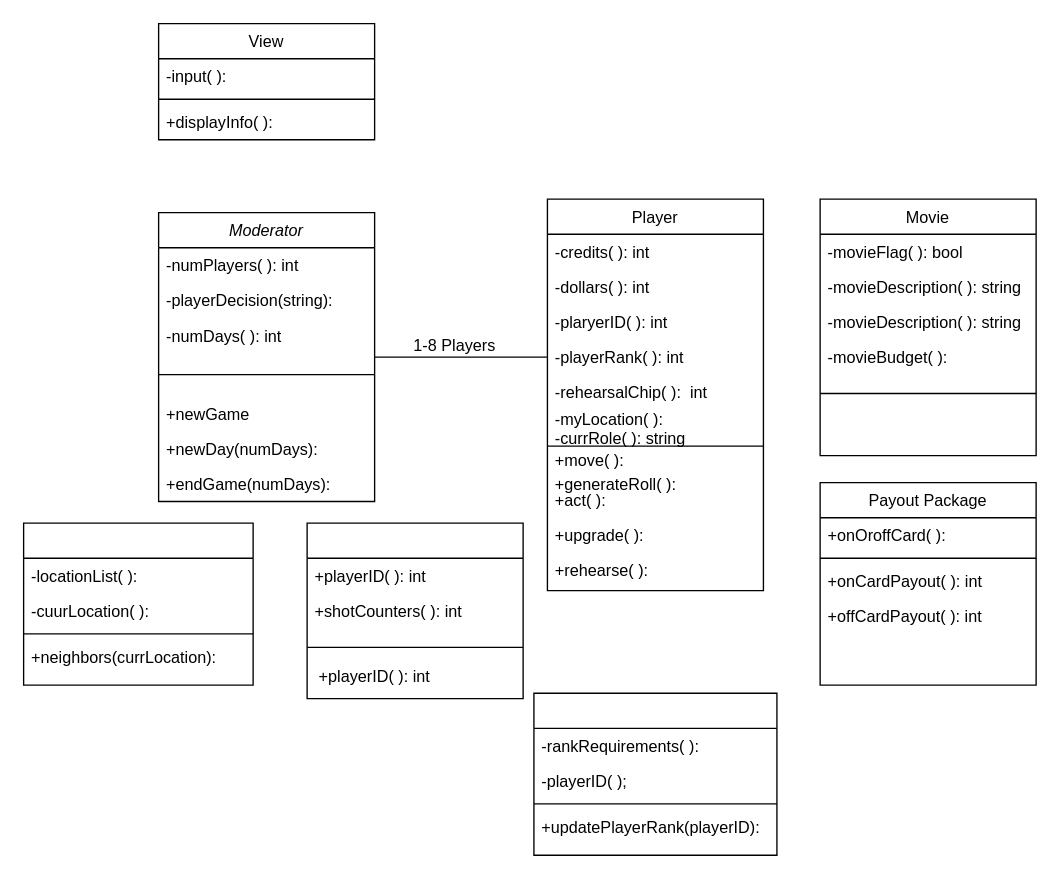
The diagram is 1060 pixels wide and 879 high, and some of its shapes have lost their labels. Here are the shapes that lost their labels. From the top down, the box of each, then its label:
(22, 522, 253, 685): Board
(306, 522, 523, 699): Location
(533, 692, 777, 855): Casting Office
